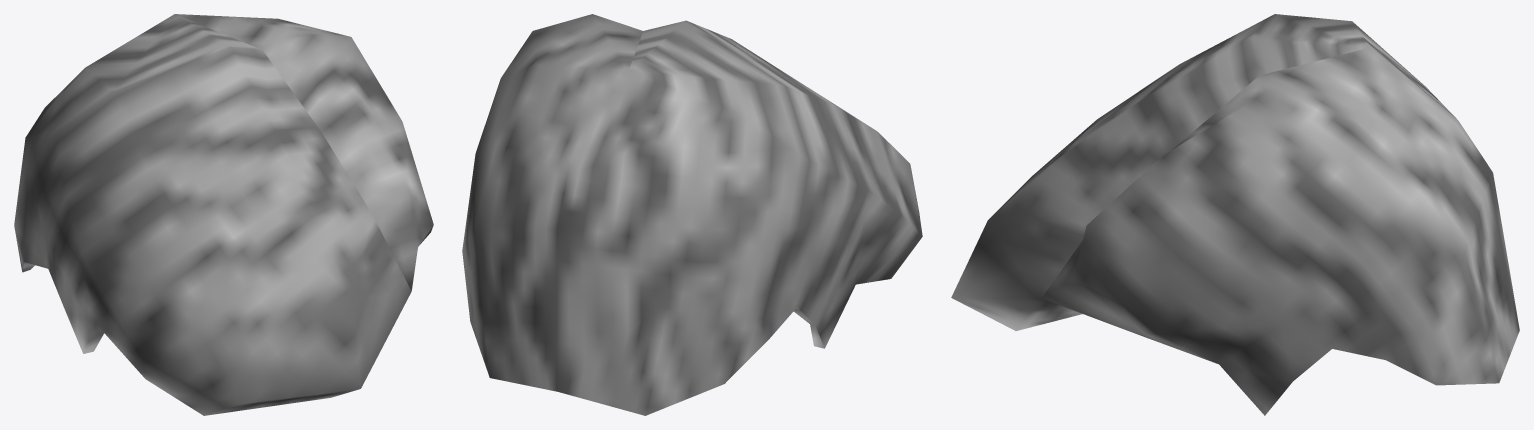
File: Wig_Kate_Hair_PartingRight.fbx
3 renders of one model, left to right at view 1: azimuth 30°, elevation 25°; view 2: azimuth 150°, elevation 25°; view 3: azimuth 270°, elevation 25°, orthographic. The views are drawn at different scales.
Visible parts, largest first — view 1: BoxOfJars003; view 2: BoxOfJars003; view 3: BoxOfJars003.
Boxes of the visible parts, <box> form: BoxOfJars003: <box>14,14,433,415</box>; BoxOfJars003: <box>462,14,922,415</box>; BoxOfJars003: <box>951,14,1519,415</box>.
Bounding box in the file's own units: 11.65 × 9.48 × 16.04.
